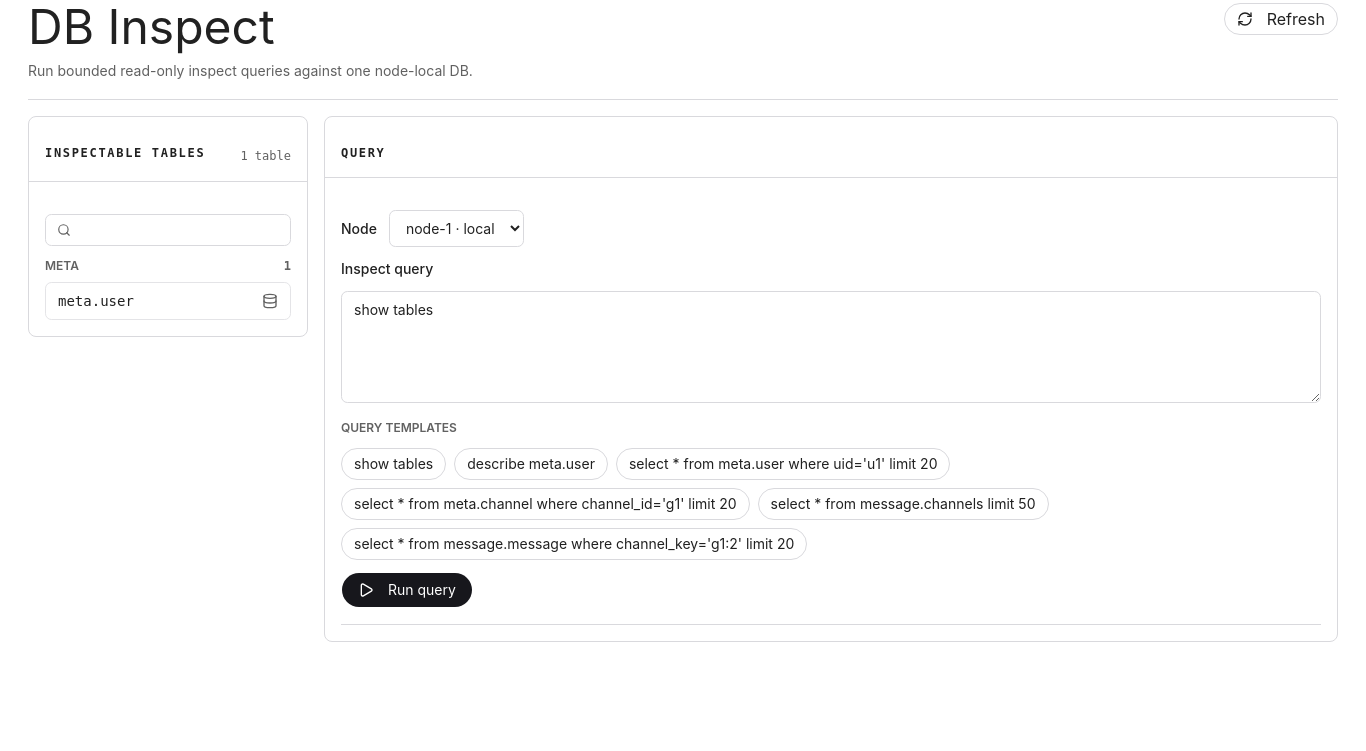
uses editorial db inspect rail workbench and named result tables
Click the button with aria-label "Inspect meta.user": click(168, 301) [45,282,291,320]
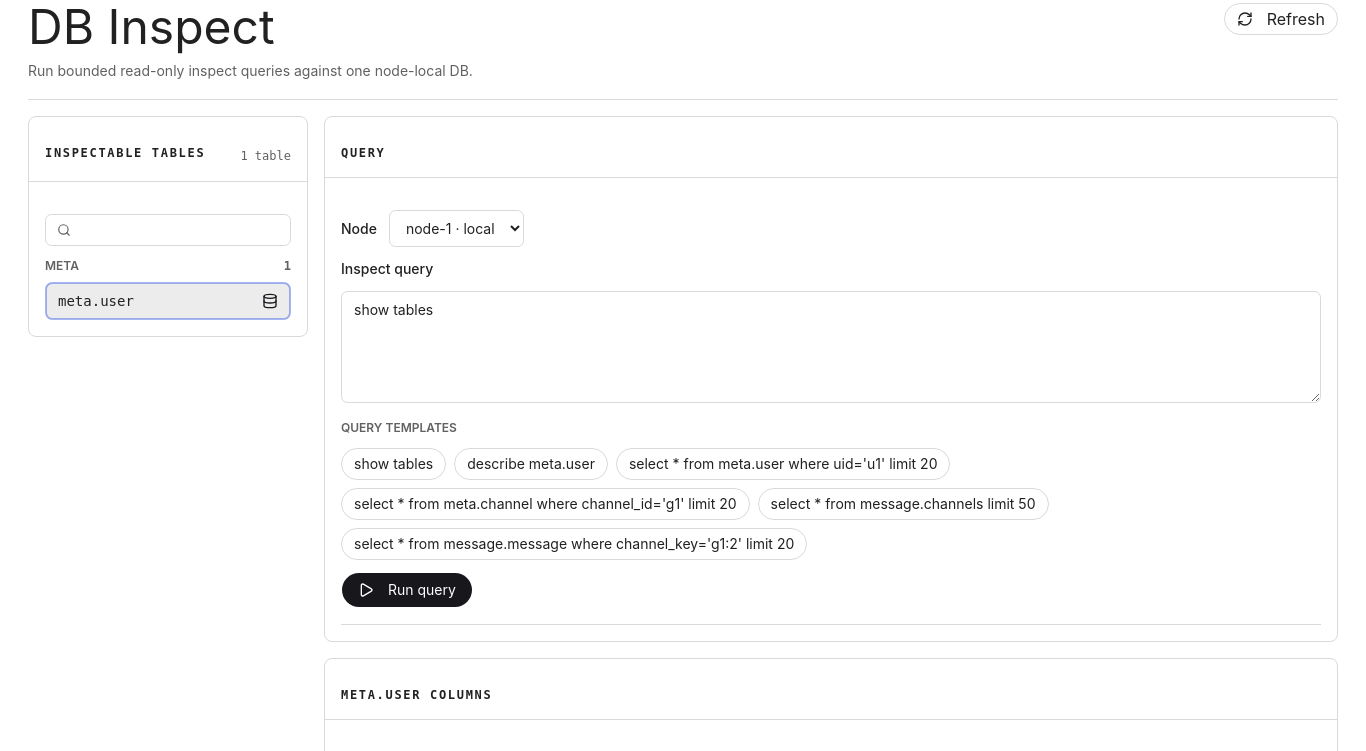
Replace the text in the text box labelled "Inspect query" with "select uid from meta.user limit 20": (831, 347) [341,291,1321,403]
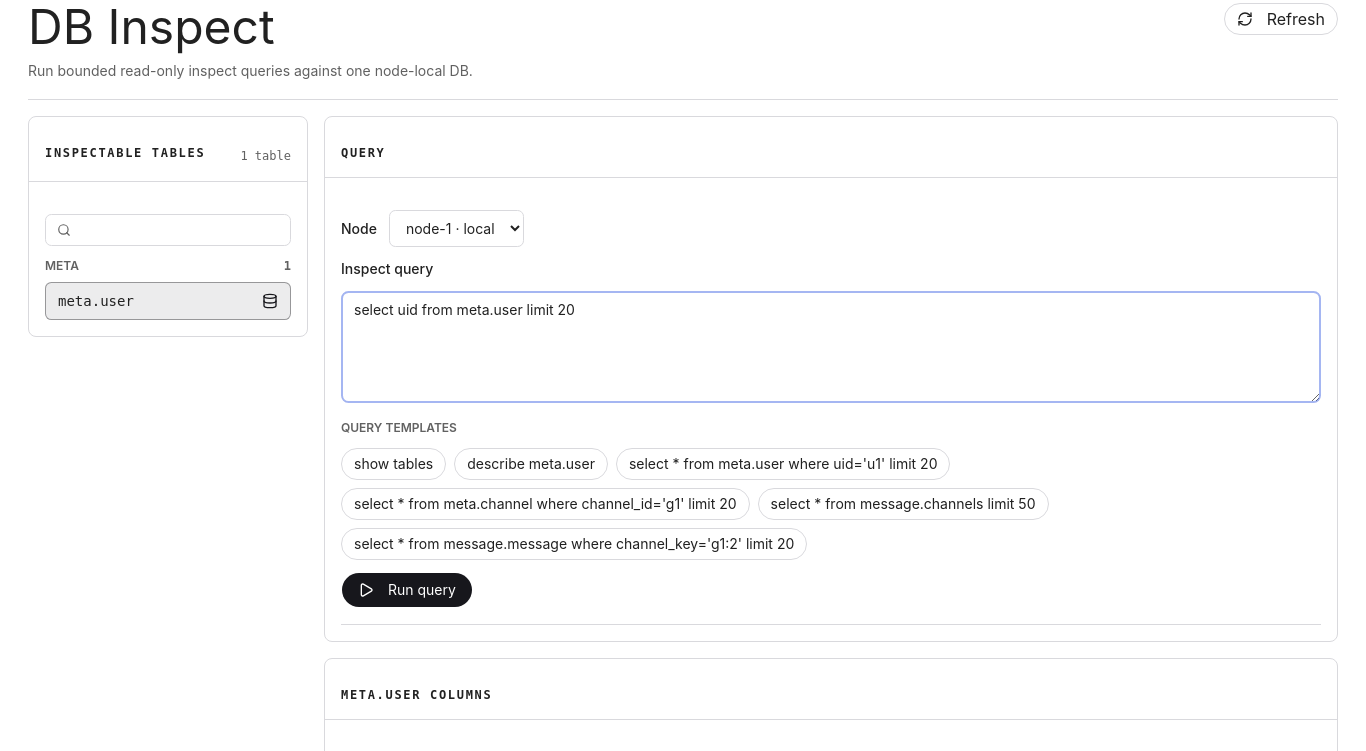
Click the button "Run query": click(407, 590) [341,572,473,608]
(page scrolled)
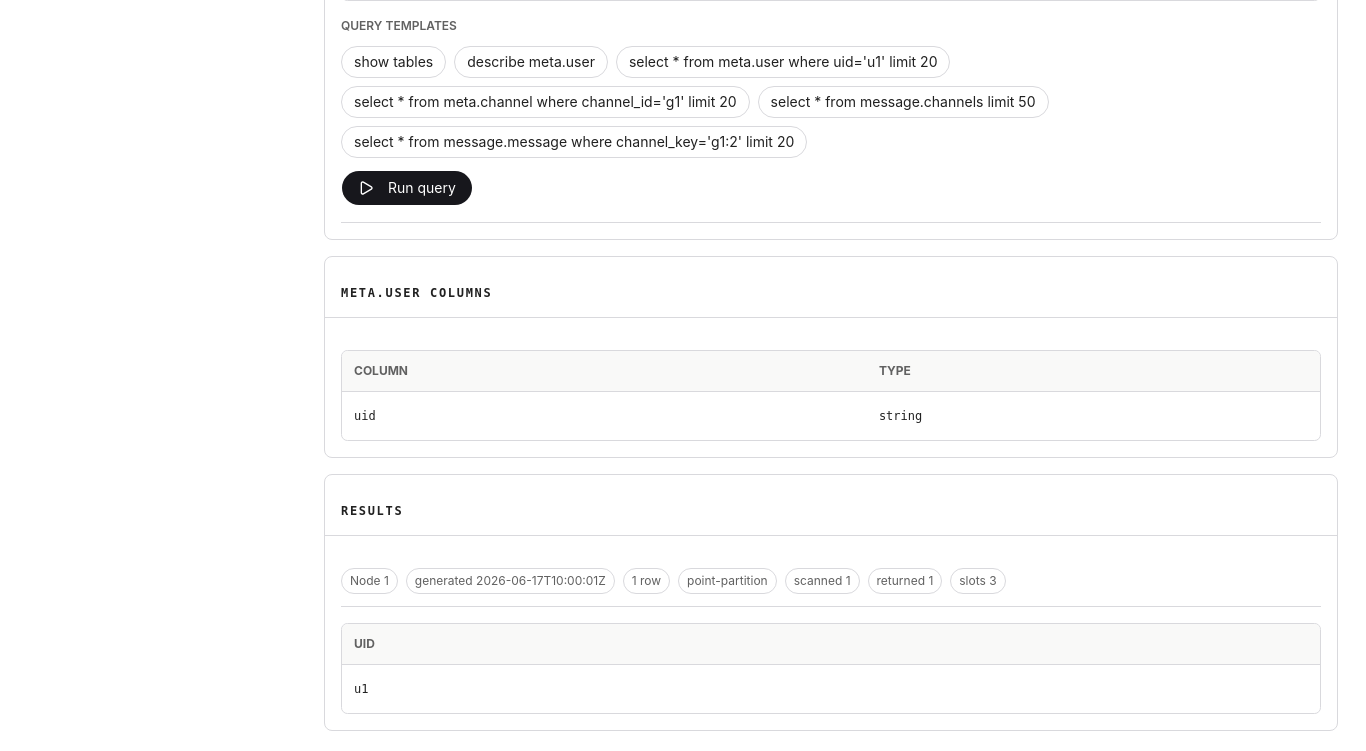
Expected: the text "Node 1" is shown, [341,568,398,594]
Expected: the text "generated 2026-06-17T10:00:01Z" is shown, [406,568,615,594]
Expected: the text "1 row" is shown, [623,568,670,594]
